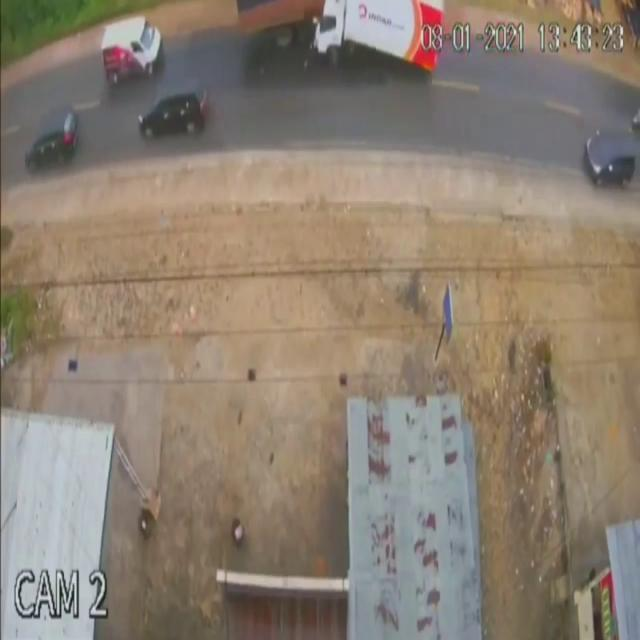accident: (236, 0, 444, 84)
